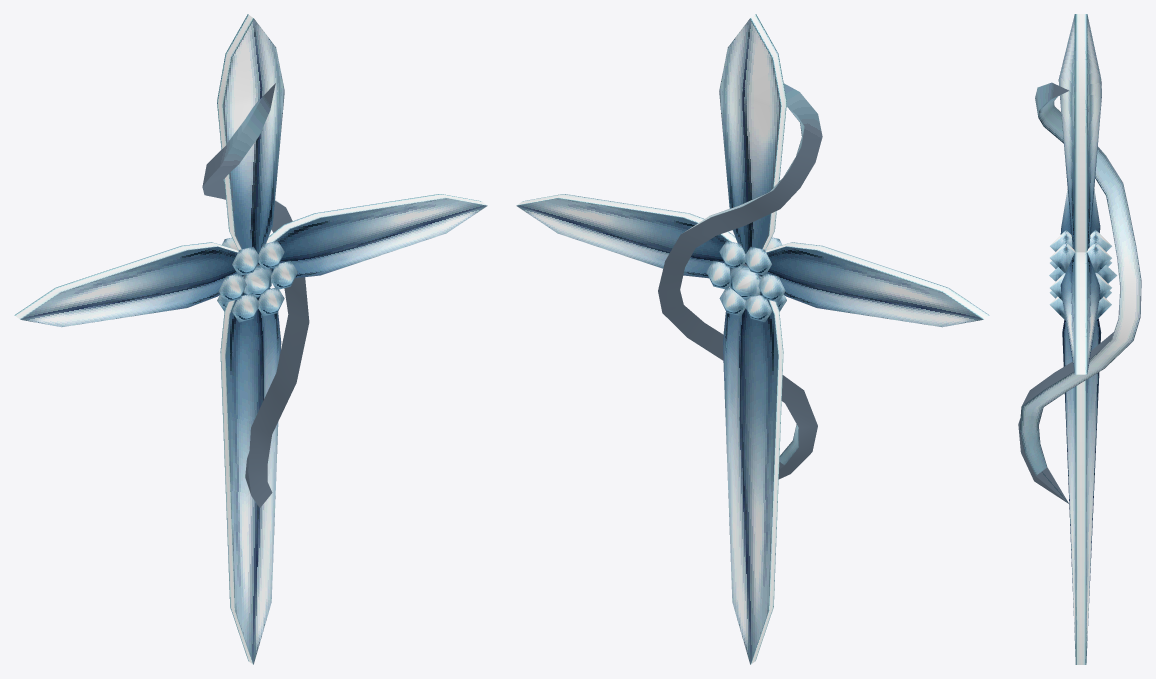
Rendered from ps2_save-icons_crosschannel-toallpeople.glb.
3 views of the same model, side by side, from view 1: azimuth 30°, elevation 25°; view 2: azimuth 150°, elevation 25°; view 3: azimuth 270°, elevation 25° (orthographic).
Visible parts, largest first — view 1: icon.ico; view 2: icon.ico; view 3: icon.ico.
Part boxes in pixels (left/top/right/bottom): icon.ico: left=14, top=14, right=487, bottom=664; icon.ico: left=516, top=14, right=989, bottom=664; icon.ico: left=1018, top=14, right=1141, bottom=664.
Size of the model in its own units: 3.6 by 4.76 by 0.8176.
1 material, 1 textured.
